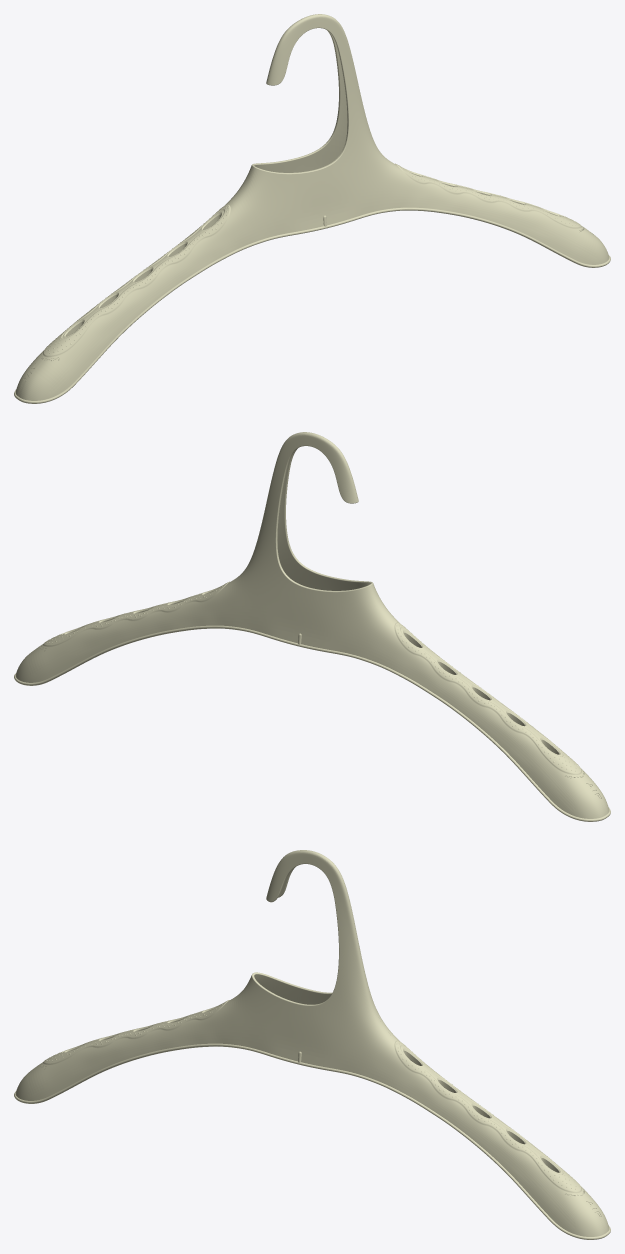
File: model_silver_color.glb
3 views of the same model, one above another, from view 1: azimuth 30°, elevation 25°; view 2: azimuth 150°, elevation 25°; view 3: azimuth 330°, elevation 25° (orthographic).
Visible parts, largest first — view 1: 0318 hanger print; view 2: 0318 hanger print; view 3: 0318 hanger print.
Boxes of the visible parts, x1,y1,x2,y2 form: 0318 hanger print: (14,14,610,403); 0318 hanger print: (14,432,610,821); 0318 hanger print: (14,850,610,1239).
Bounding box in the file's own units: 12.3 × 6.22 × 0.9955.
